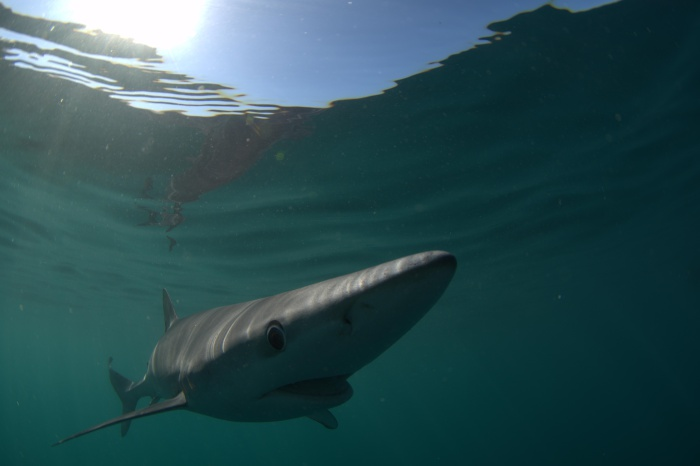Azul: (23, 242, 482, 466)
